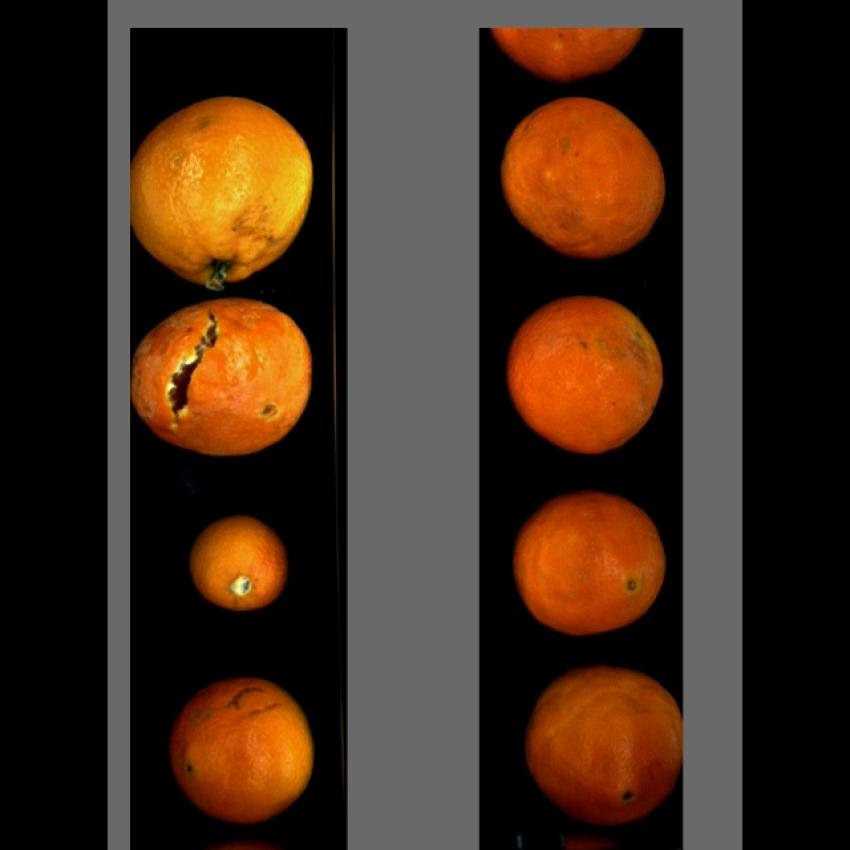Mal estado: (129, 93, 321, 290), (132, 300, 318, 458), (497, 97, 680, 256), (506, 300, 677, 452), (524, 666, 681, 818), (507, 495, 674, 635), (169, 680, 314, 821), (188, 516, 291, 614), (491, 27, 658, 80)
